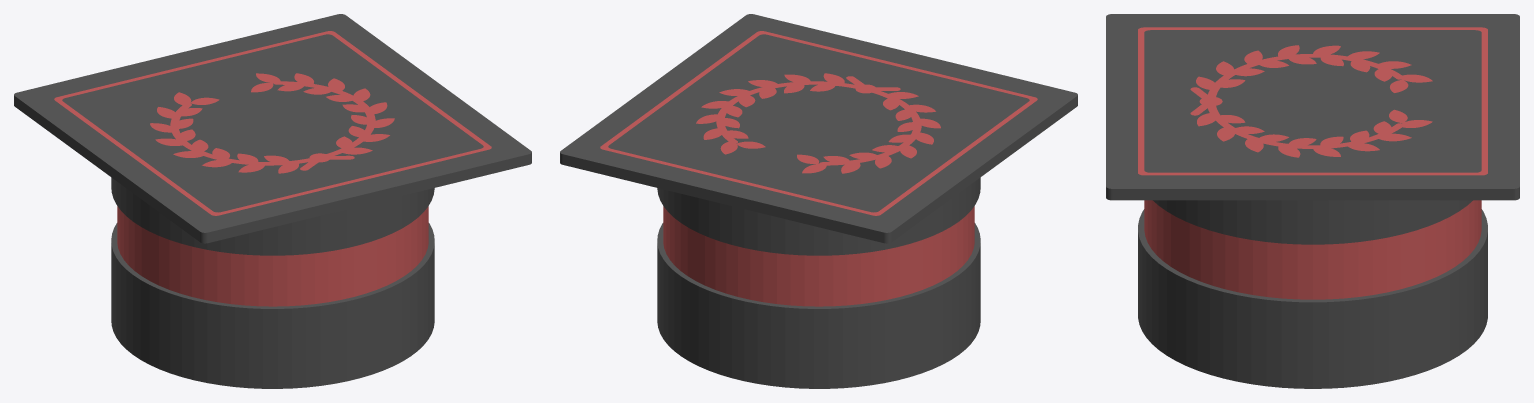
File: bomboniera-laurea-alloro-facolta-montato.glb
3 renders of one model, left to right at view 1: azimuth 30°, elevation 25°; view 2: azimuth 150°, elevation 25°; view 3: azimuth 270°, elevation 25°, orthographic. The views are drawn at different scales.
Visible parts, largest first — view 1: struttura_coperchio, struttura_base, fascia, simbolo_intarsio, bordo; view 2: struttura_coperchio, struttura_base, fascia, simbolo_intarsio, bordo; view 3: struttura_coperchio, struttura_base, fascia, simbolo_intarsio, bordo.
Boxes of the visible parts, <box> form: struttura_coperchio: <box>14,14,531,255</box>; struttura_base: <box>111,223,434,388</box>; fascia: <box>117,206,428,306</box>; simbolo_intarsio: <box>150,73,394,173</box>; bordo: <box>54,31,491,215</box>; struttura_coperchio: <box>560,14,1077,255</box>; struttura_base: <box>657,223,980,388</box>; fascia: <box>663,206,974,306</box>; simbolo_intarsio: <box>696,73,940,173</box>; bordo: <box>600,31,1037,215</box>; struttura_coperchio: <box>1106,14,1519,244</box>; struttura_base: <box>1138,209,1487,388</box>; fascia: <box>1144,200,1481,299</box>; simbolo_intarsio: <box>1190,45,1432,157</box>; bordo: <box>1138,27,1487,175</box>.
Size of the model in its own units: 0.065 by 0.037 by 0.065.
